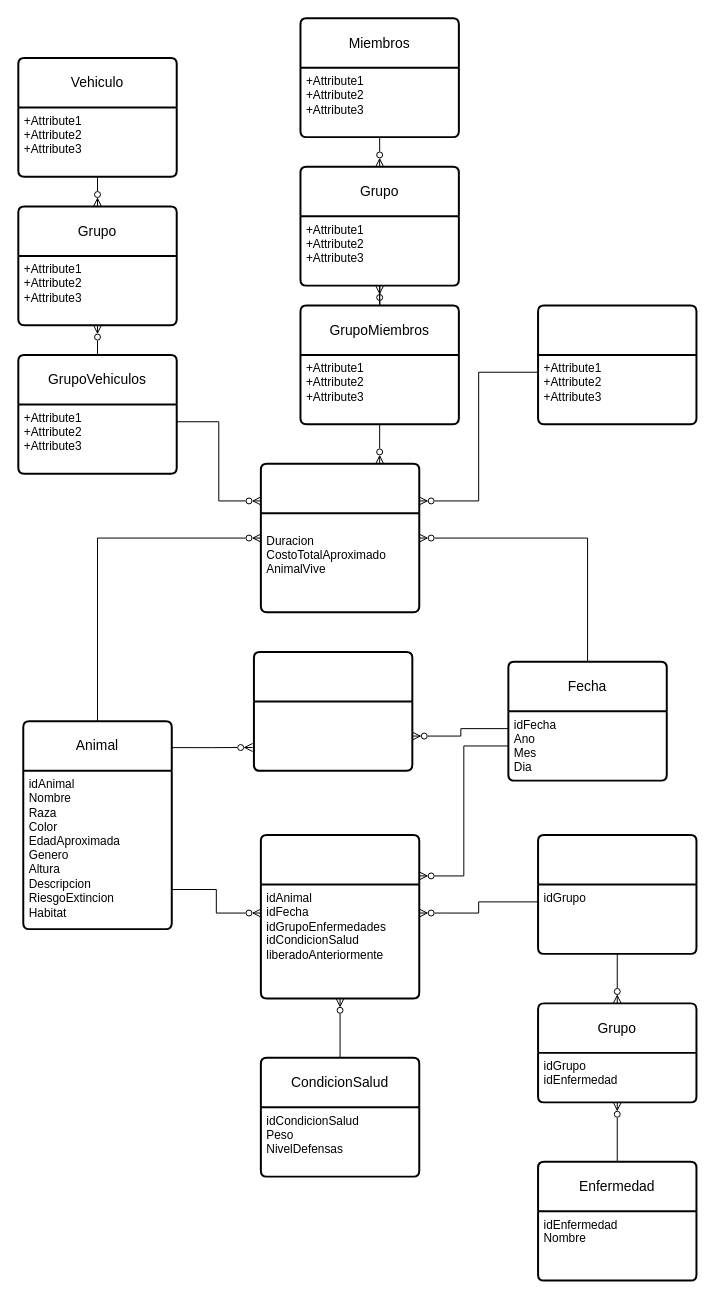
This 714x1298 diagram has some shape labels left out. The box of each missing label's shape, as (x1, y1, x2, y2) in pixels:
GrupoEnfermedades: (537, 834, 697, 954)
HechoPonerRastreador: (252, 650, 413, 771)
HechoRegistroAnimal: (259, 834, 420, 999)
HechoRescatarAnimal: (259, 462, 420, 613)
Ubicacion: (537, 304, 697, 425)
